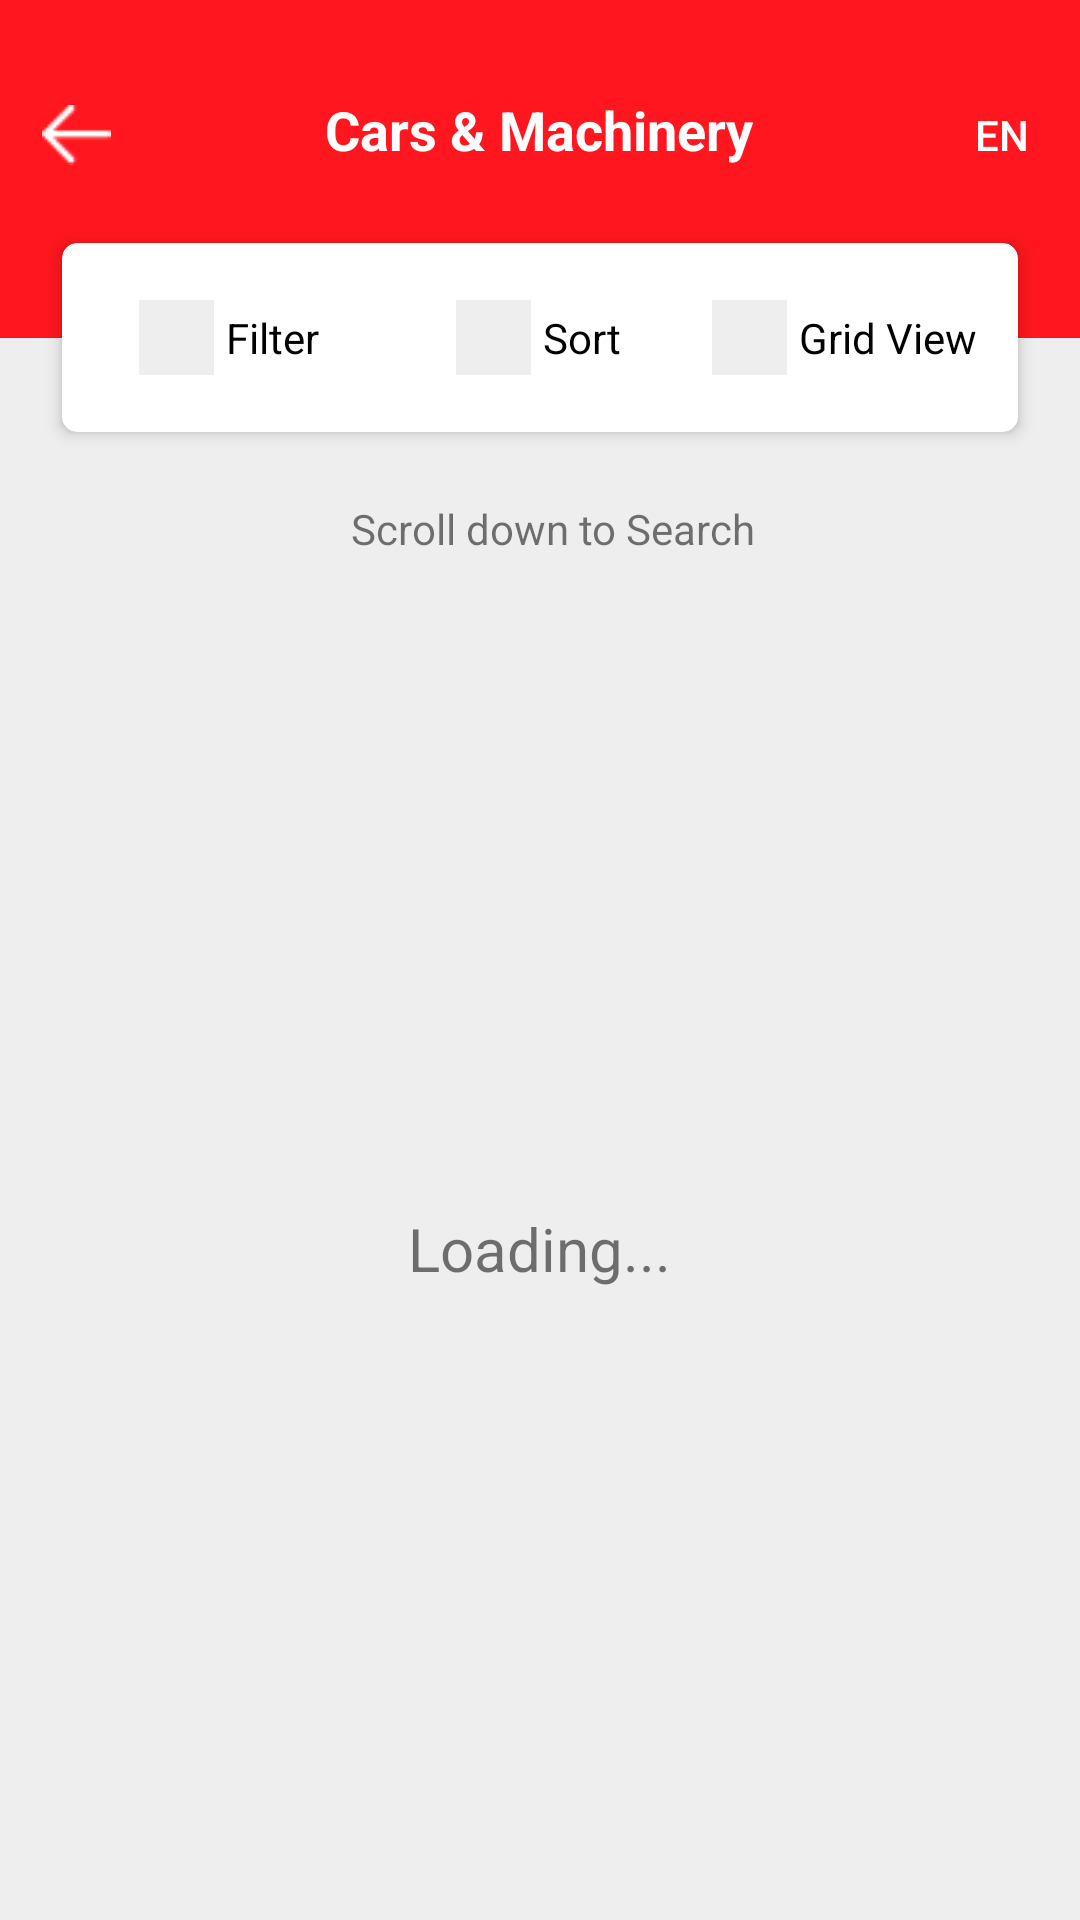

Named icons in this screenshot (1080x1920) and their centers, point (x, y):
back: point (76, 135)
